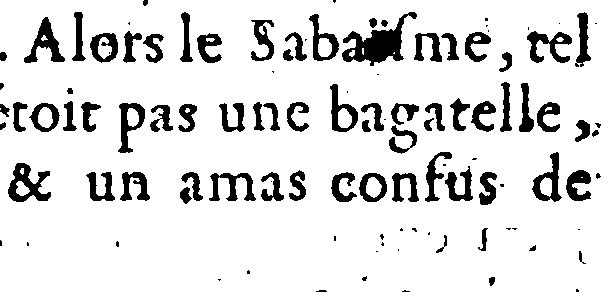o: (28, 97, 63, 134), (361, 168, 390, 206), (88, 29, 118, 65)
